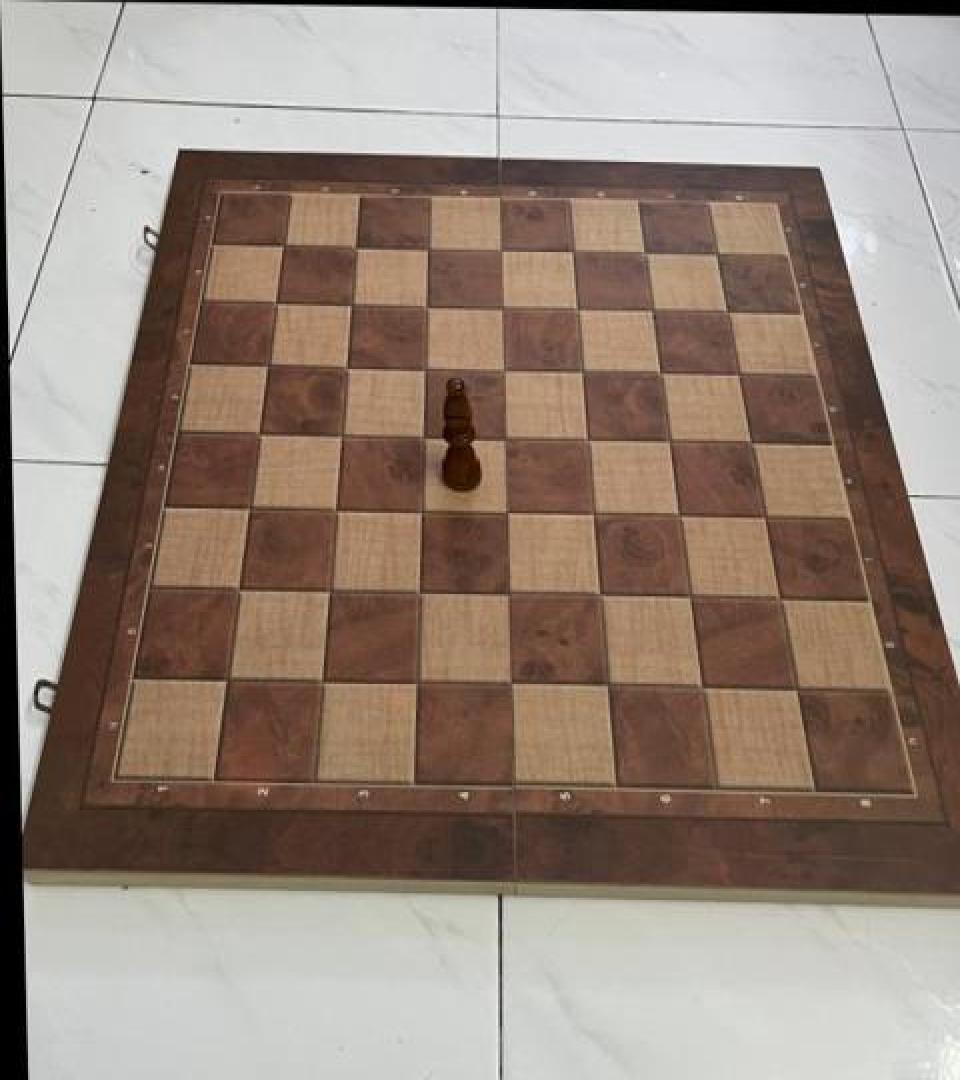xcorner: (633, 291, 667, 330), (642, 353, 676, 392), (486, 418, 520, 457), (683, 669, 717, 708), (303, 661, 337, 700), (698, 234, 732, 272), (626, 233, 660, 271), (553, 232, 587, 270), (481, 231, 515, 269), (408, 230, 442, 268), (336, 228, 370, 266), (264, 226, 298, 264), (709, 292, 743, 330), (558, 289, 592, 327), (482, 288, 516, 326), (407, 287, 441, 325), (332, 285, 366, 323), (256, 284, 290, 322), (720, 356, 754, 394), (563, 352, 597, 390), (484, 351, 518, 389), (406, 349, 440, 387), (327, 348, 361, 386), (248, 346, 282, 384), (733, 423, 767, 461), (651, 422, 685, 460), (568, 421, 602, 459), (404, 418, 438, 456), (322, 415, 356, 453), (240, 414, 274, 452), (746, 498, 780, 536), (660, 498, 694, 536), (574, 495, 608, 533), (488, 494, 522, 532), (402, 492, 436, 530), (316, 490, 350, 528), (230, 488, 264, 526), (761, 580, 795, 618), (671, 580, 705, 618), (581, 577, 615, 615), (490, 575, 524, 613), (400, 574, 434, 612), (310, 572, 344, 610), (220, 570, 254, 608), (778, 672, 812, 710), (588, 667, 622, 705), (493, 666, 527, 704), (398, 664, 432, 702), (208, 660, 242, 698)
